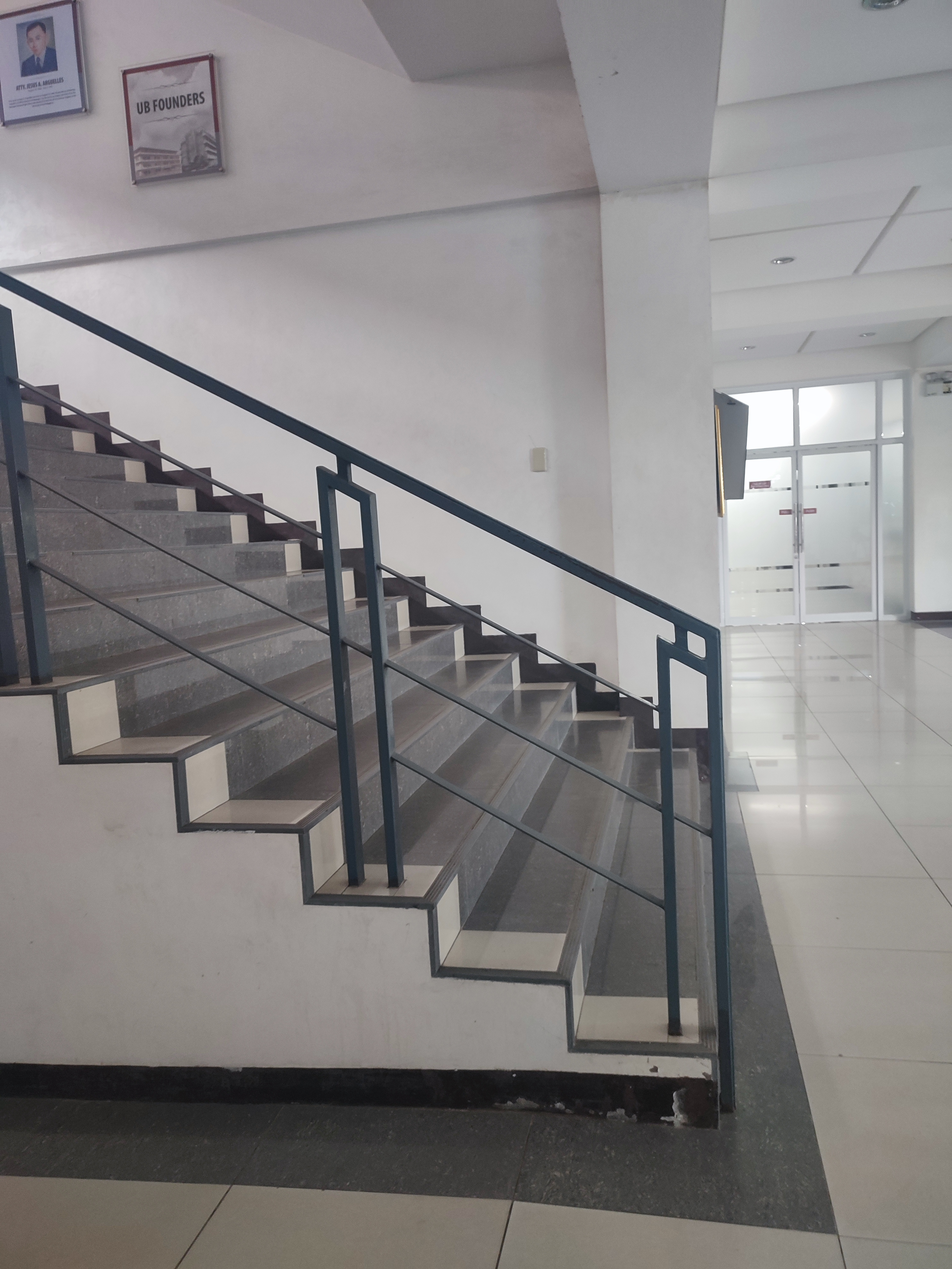Staircase: (0, 374, 718, 1083)
